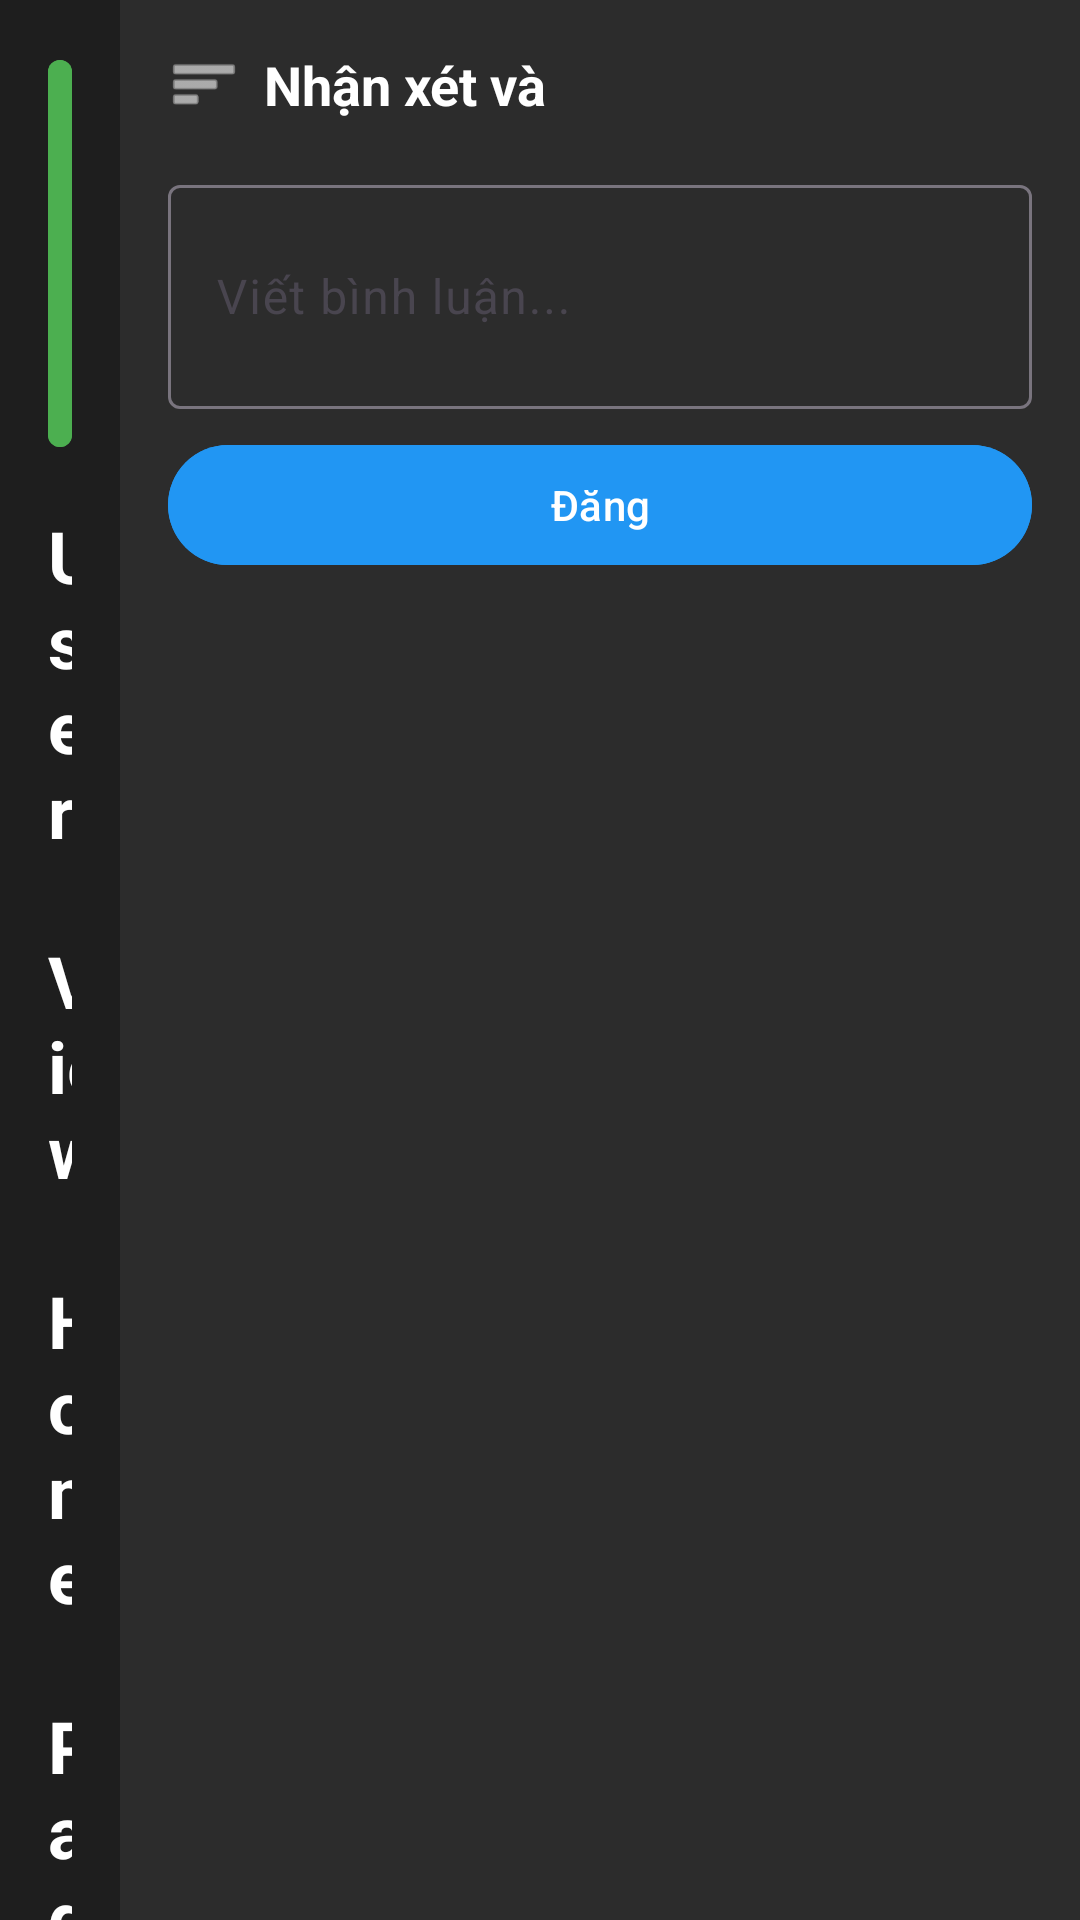

Icons on this 1080w x 1920h Android screen, each with its box as (x1, y1, x2, y2):
sort by size: (173, 64, 235, 105)
